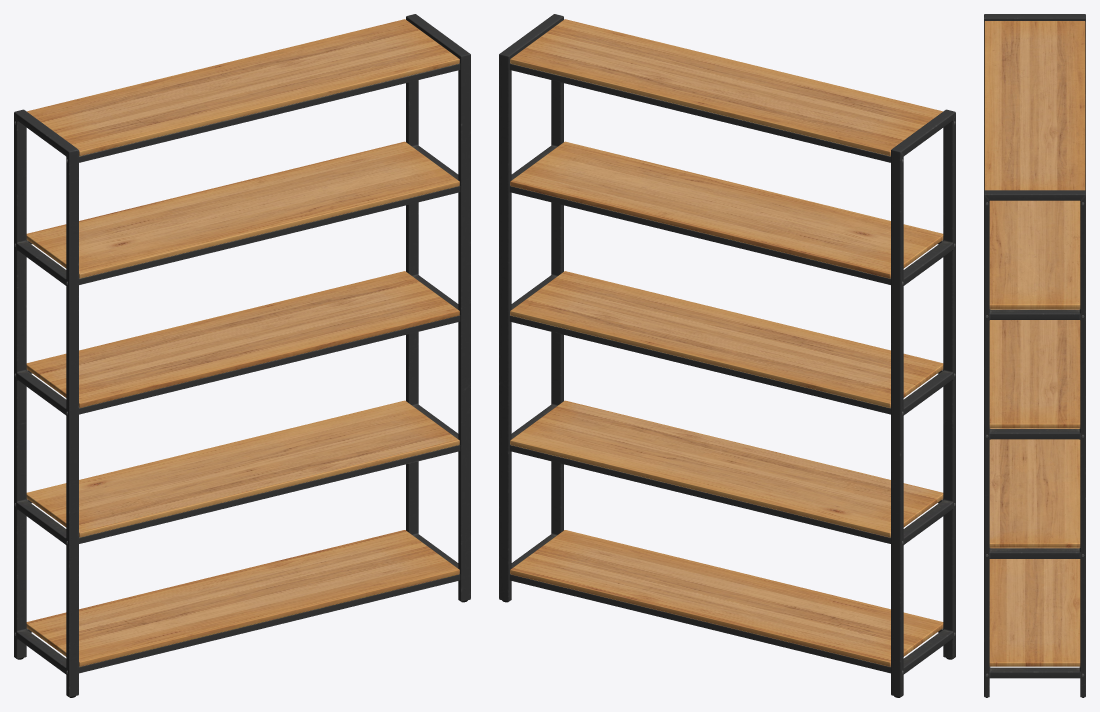
Rendered from rak6.fbx.
3 views of the same model, side by side, from view 1: azimuth 30°, elevation 25°; view 2: azimuth 150°, elevation 25°; view 3: azimuth 270°, elevation 25° (orthographic). The views are drawn at different scales.
Parts seen in each view (by area): view 1: steel_frame_shelves_01; view 2: steel_frame_shelves_01; view 3: steel_frame_shelves_01.
Boxes of the visible parts, box(x1,y1,x2,y2) form: steel_frame_shelves_01: box(14, 14, 470, 697); steel_frame_shelves_01: box(499, 14, 955, 697); steel_frame_shelves_01: box(984, 14, 1085, 697).
Size of the model in its own units: 281 by 365 by 66.86.
